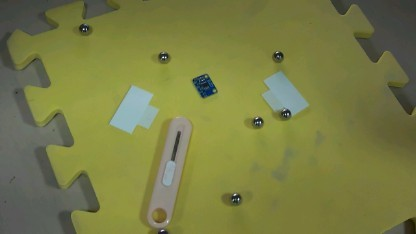ironball: (154, 46, 170, 66), (278, 103, 291, 122), (75, 21, 91, 35), (269, 48, 284, 62), (249, 113, 261, 130), (229, 189, 240, 206), (155, 226, 165, 232)
